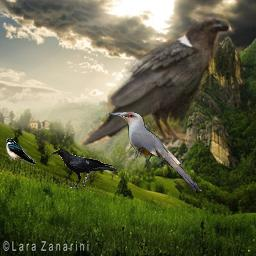Crow: (77, 14, 235, 153), (50, 148, 116, 188)
Cuckoo: (109, 111, 202, 193)
Swallow: (6, 138, 36, 165)
